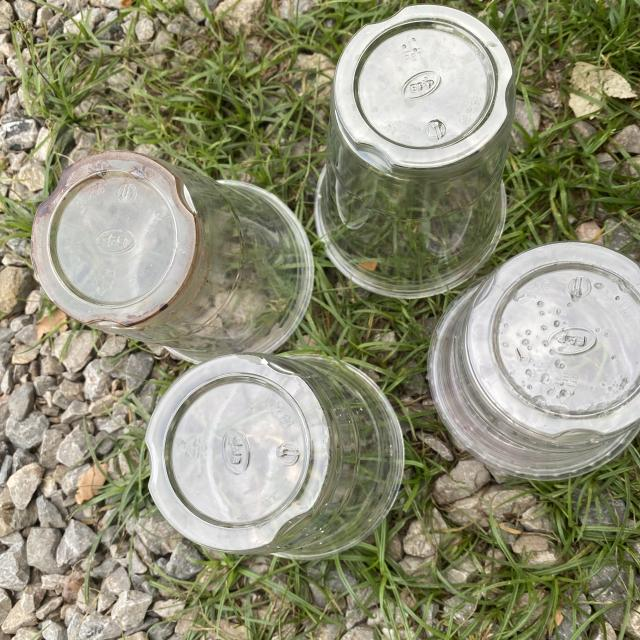plastik: (31, 151, 314, 362), (315, 5, 515, 299), (146, 354, 404, 560), (428, 242, 640, 480)
